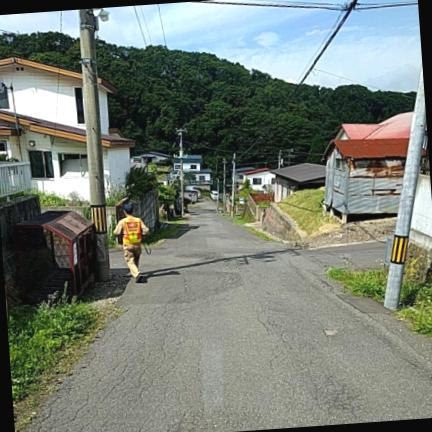Road: (26, 206, 431, 431)
